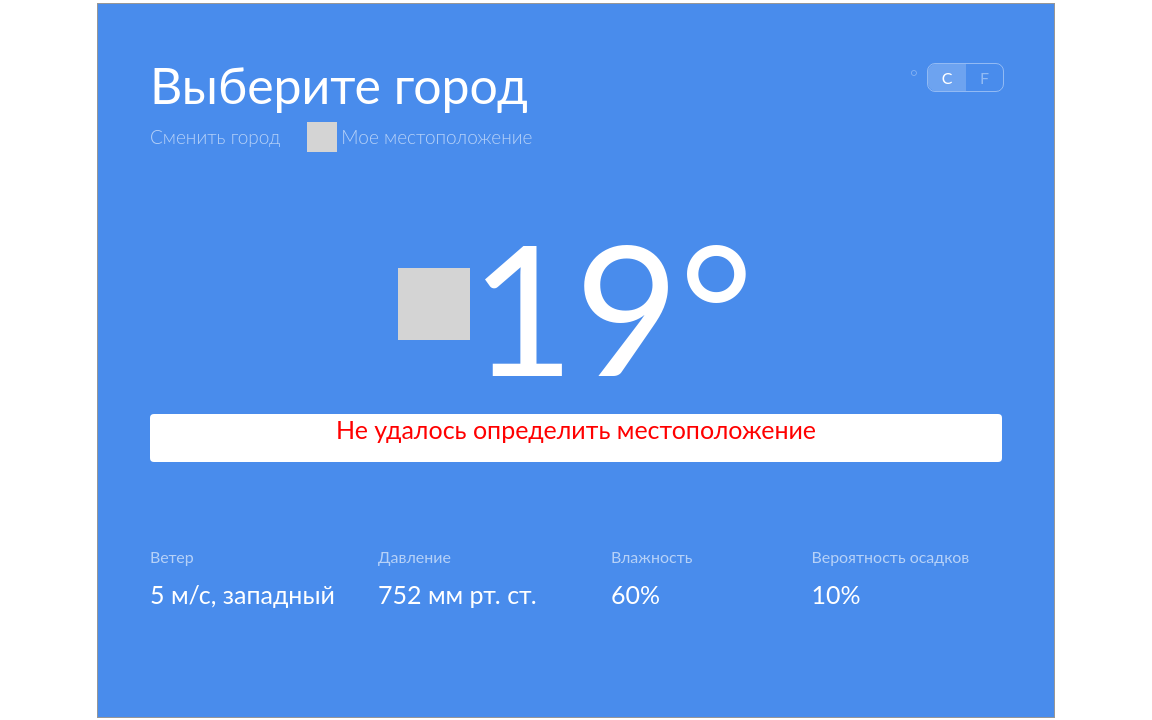
Test: App. Check buttons. › check right working "My geoposition" button
Check: the text with test id "cityName" reads "Выберите город", box [150,55,528,115]
Check: the text with test id "description" reads "Не удалось определить местоположение", box [336,414,816,444]
Click the button with test id "get-geo-btn" at (437, 137), box [341,126,532,148]
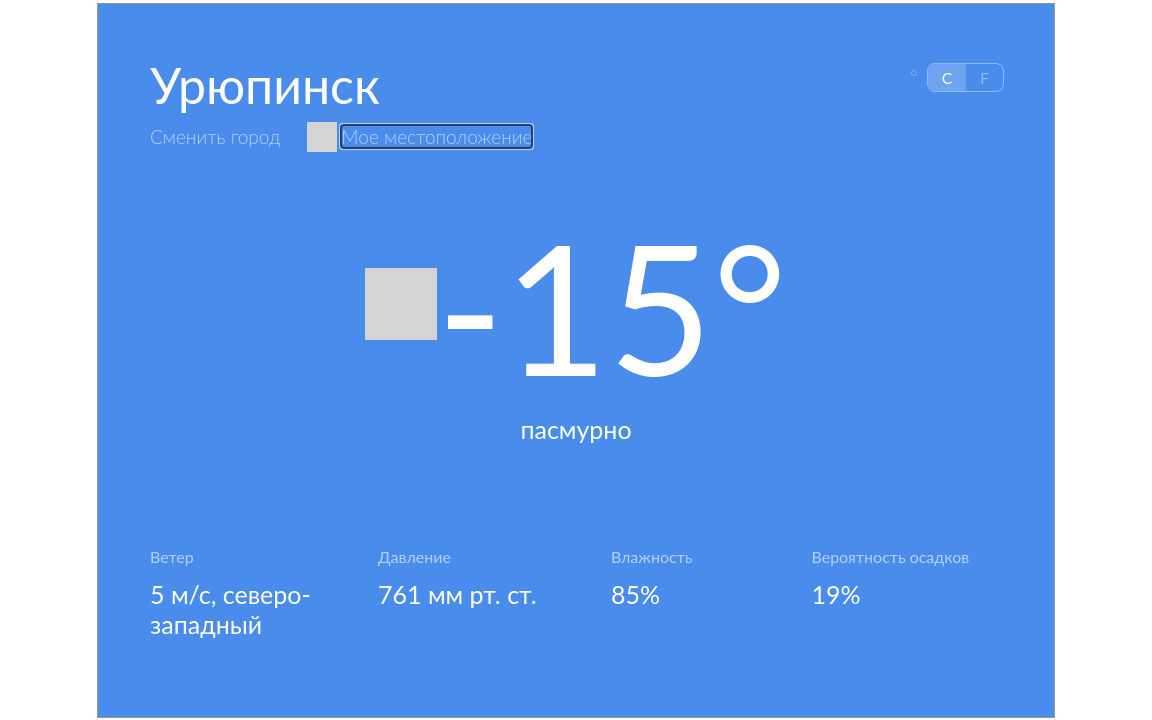
Check: the text with test id "cityName" reads "Урюпинск", box [150,55,380,115]
Check: the text with test id "description" reads "пасмурно", box [520,414,632,444]
